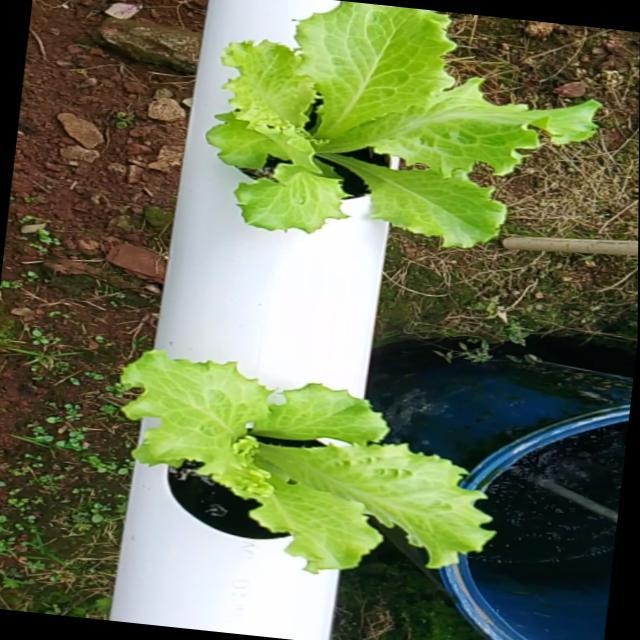Baby: (206, 1, 599, 256), (121, 364, 501, 590)
